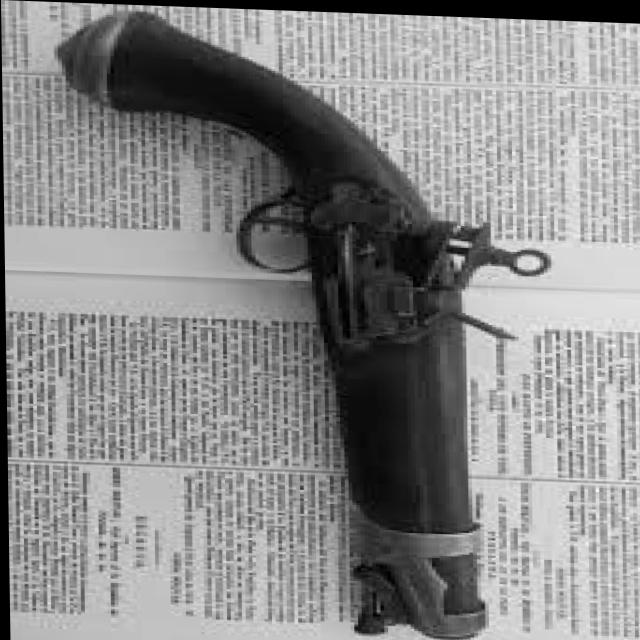handgun: (48, 12, 551, 639)
